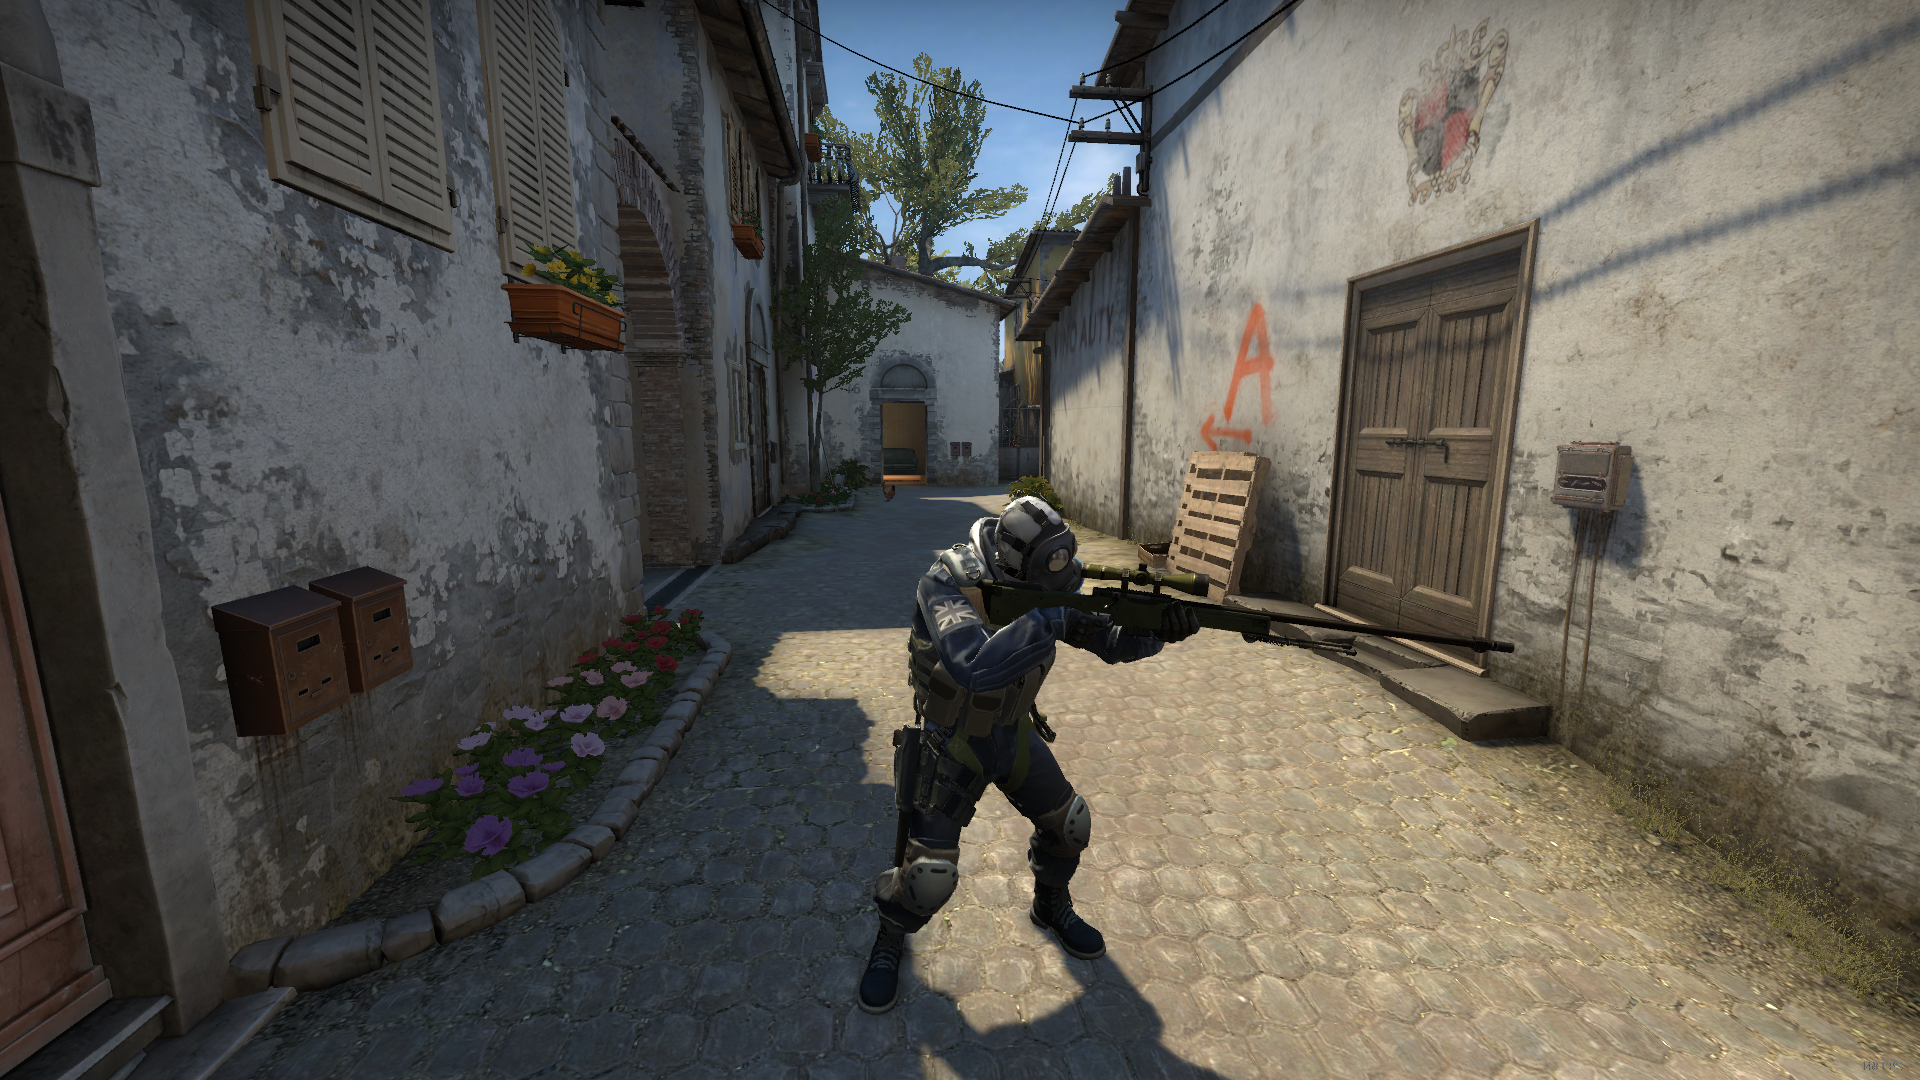t: (853, 495, 1146, 1013)
